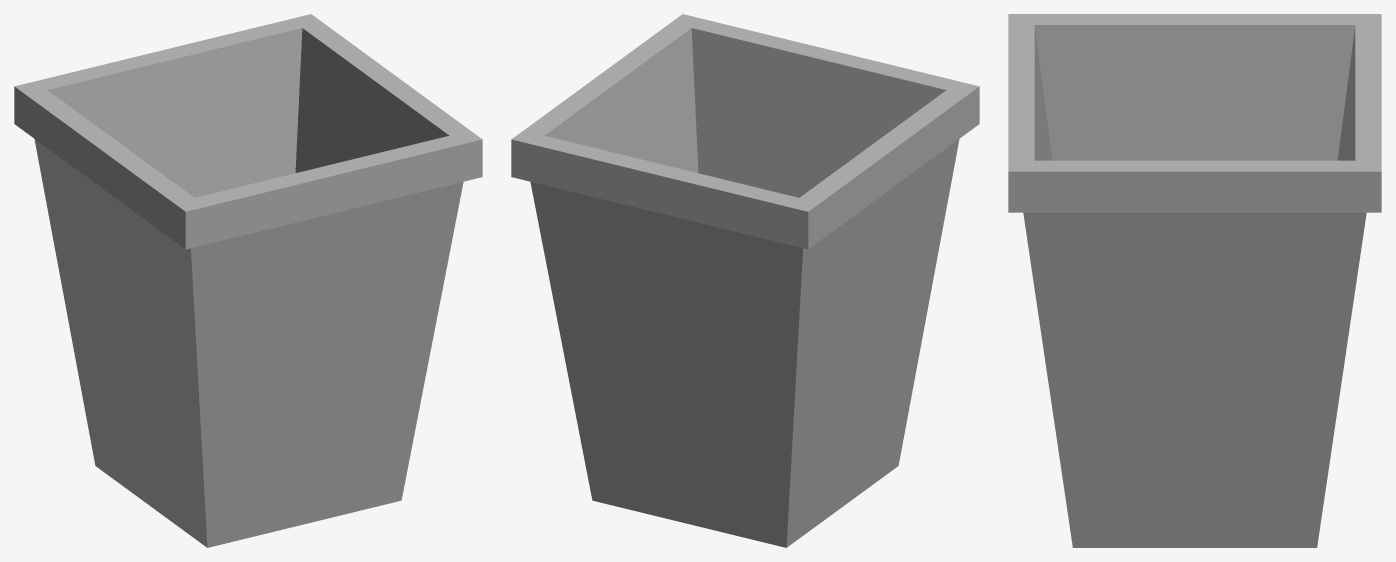
Rendered from Props_Dustbin.glb.
The picture shows the model from 3 angles, left to right: view 1: azimuth 30°, elevation 25°; view 2: azimuth 150°, elevation 25°; view 3: azimuth 270°, elevation 25°; orthographic projection. The views are drawn at different scales.
Visible parts, largest first — view 1: Props_Dustbin; view 2: Props_Dustbin; view 3: Props_Dustbin.
Part boxes in pixels (box(x1,y1,x2,y2)): Props_Dustbin: box(14, 14, 482, 547); Props_Dustbin: box(511, 14, 979, 547); Props_Dustbin: box(1008, 14, 1381, 547).
Bounding box in the file's own units: 0.9334 × 1.11 × 0.9334.
1 material, 1 textured.
